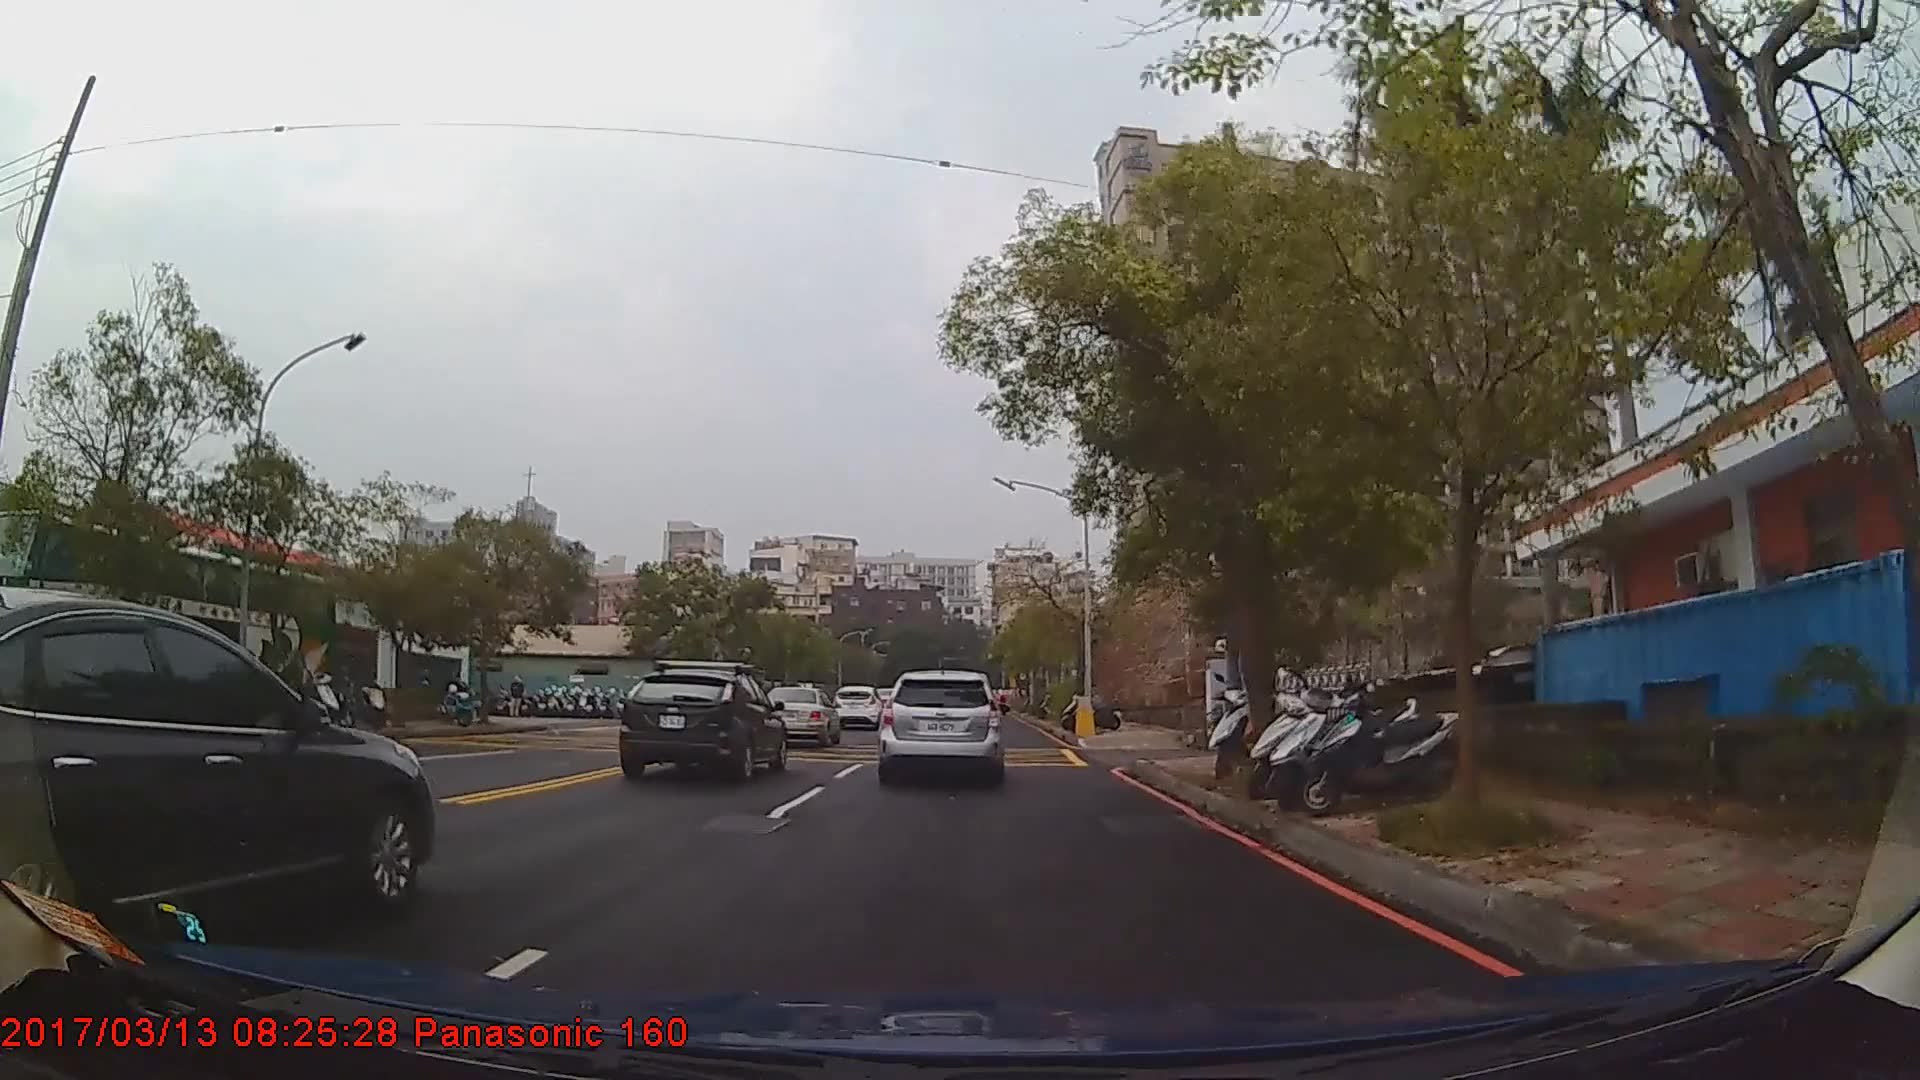vehicle: (0, 588, 433, 957), (0, 508, 331, 742), (616, 667, 787, 785), (878, 669, 1002, 790), (757, 684, 837, 746), (829, 684, 884, 729)
